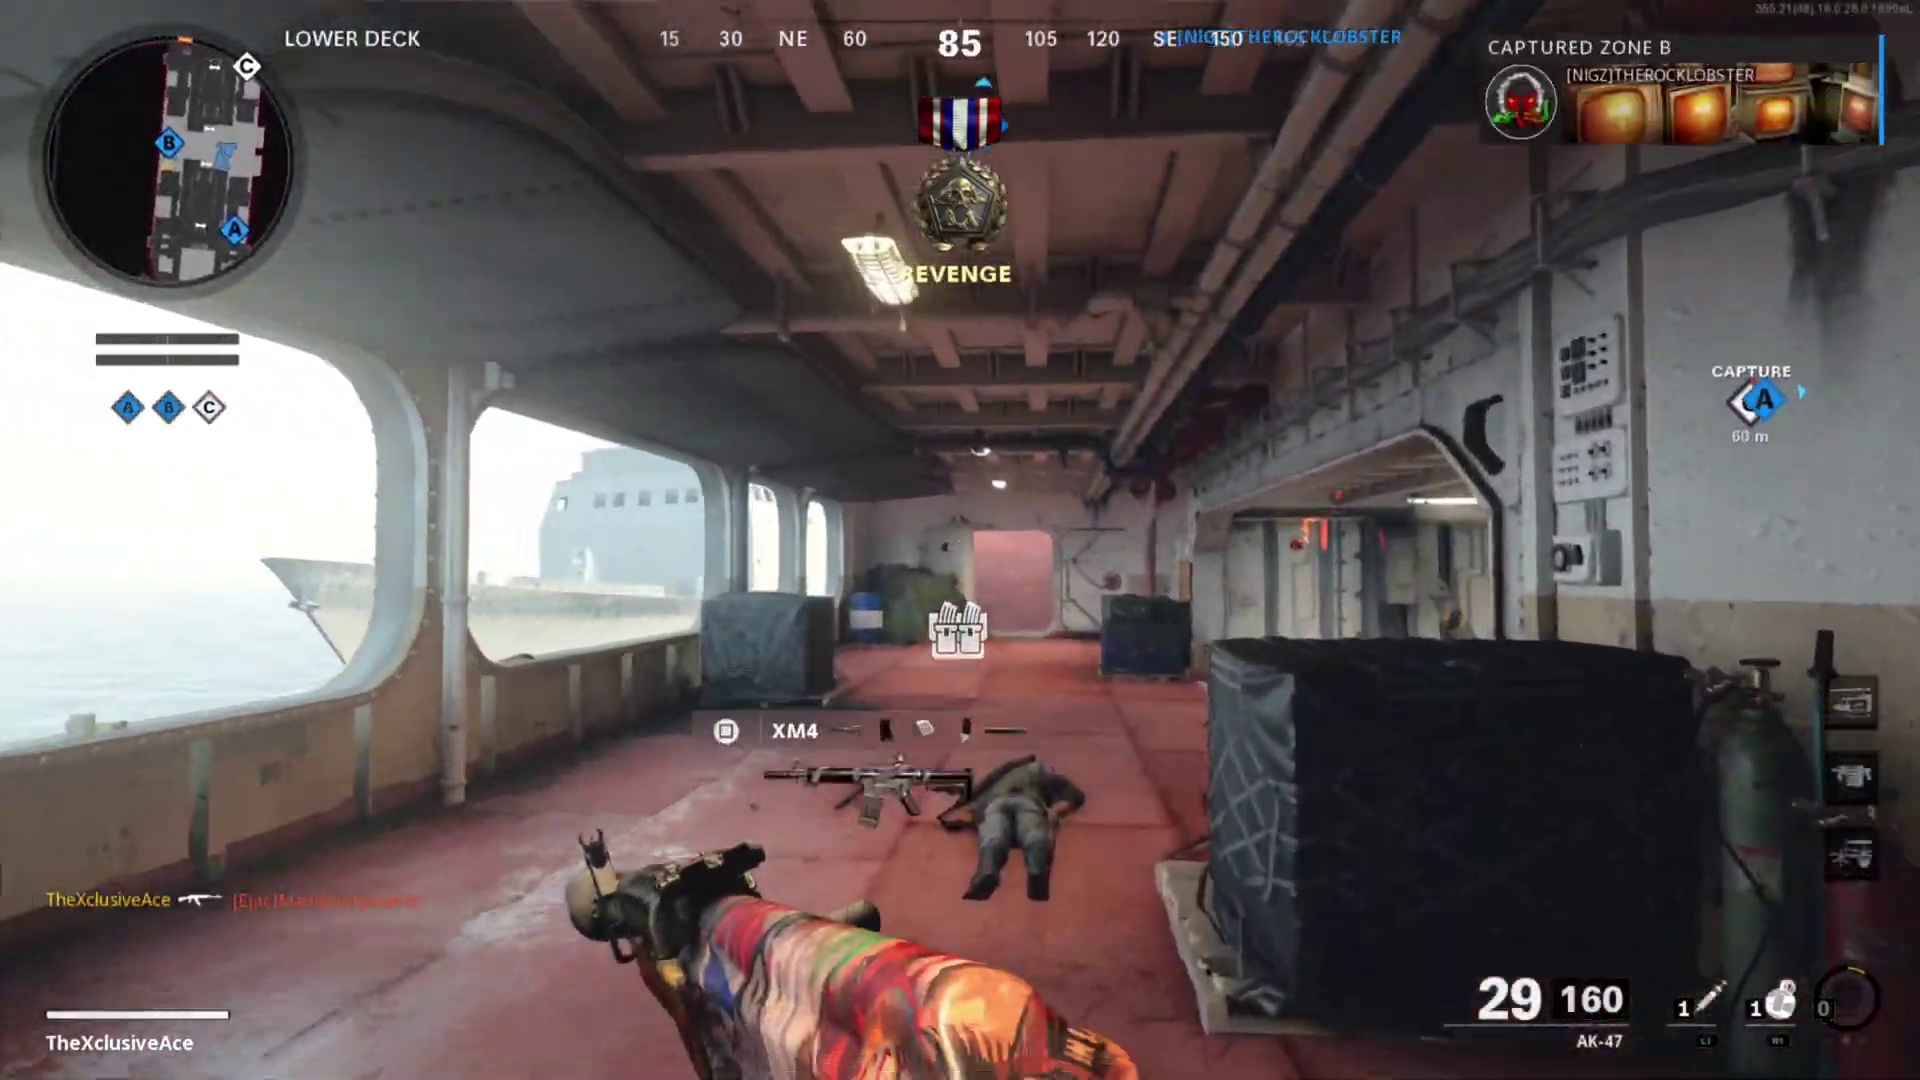person: (950, 753, 1082, 905)
